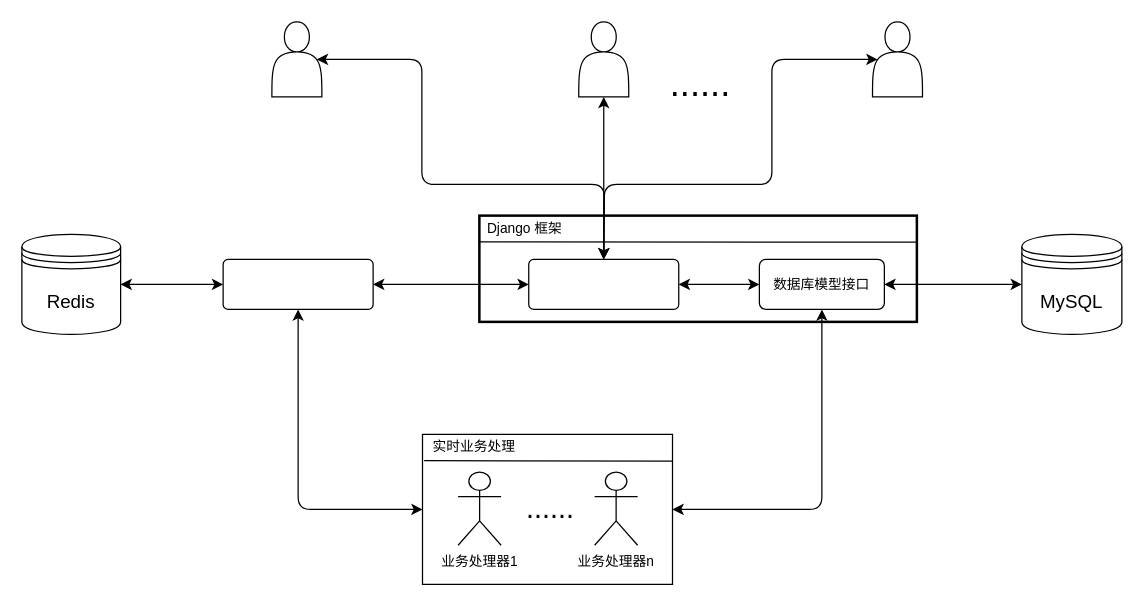
This 1144x606 diagram has some shape labels left out. The shapes that lost their labels are listed below. From the top down, each one's centre as x and y in pixels, then its label:
At (297,283): "实时业务模型接口".
At (603,283): "请求业务路由".
